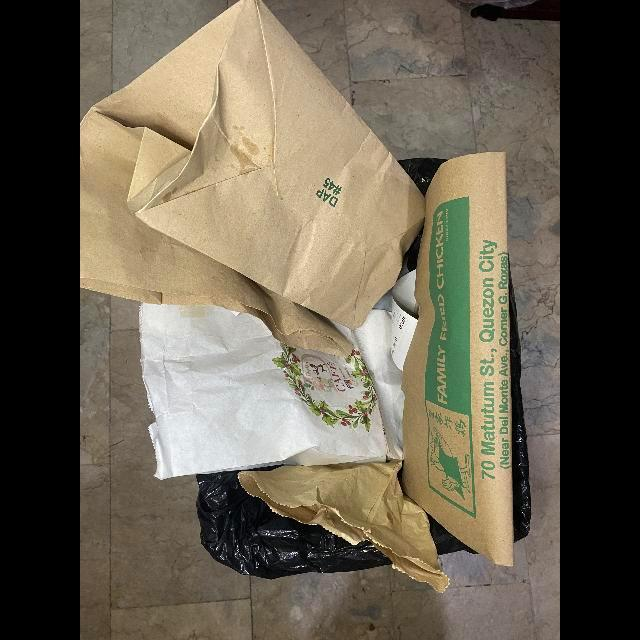paper: (401, 152, 514, 567), (138, 303, 393, 482), (240, 461, 451, 590), (357, 267, 420, 460)
